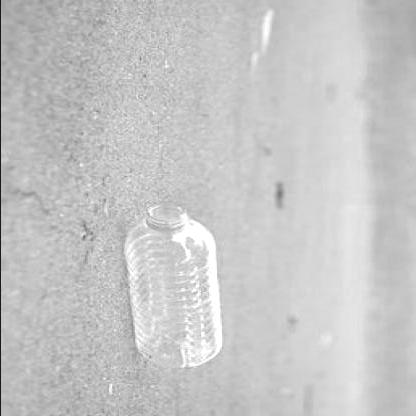bottle: (108, 193, 252, 368)
